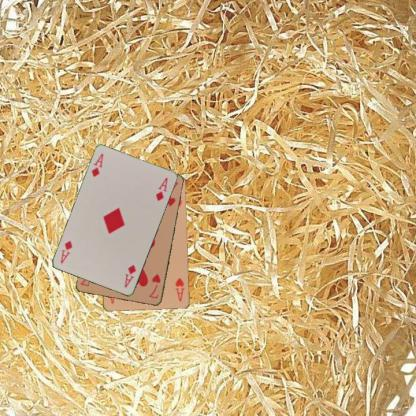7h: (147, 271, 162, 300)
Ad: (122, 262, 137, 290), (89, 152, 105, 178)
Ah: (173, 275, 186, 302)
